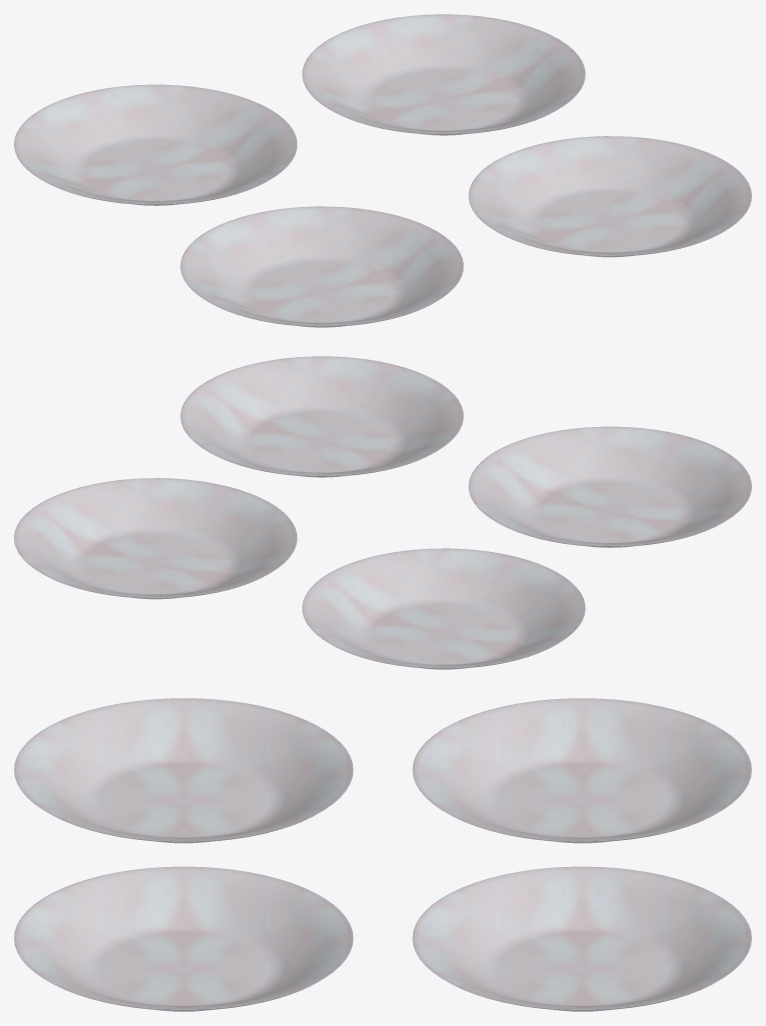
File: ORI-62.glb
3 views of the same model, one above another, from view 1: azimuth 30°, elevation 25°; view 2: azimuth 150°, elevation 25°; view 3: azimuth 270°, elevation 25° (orthographic). The views are drawn at different scales.
Bounding box in the file's own units: 0.326 × 0.018 × 0.326.
8 materials, 8 textured.
